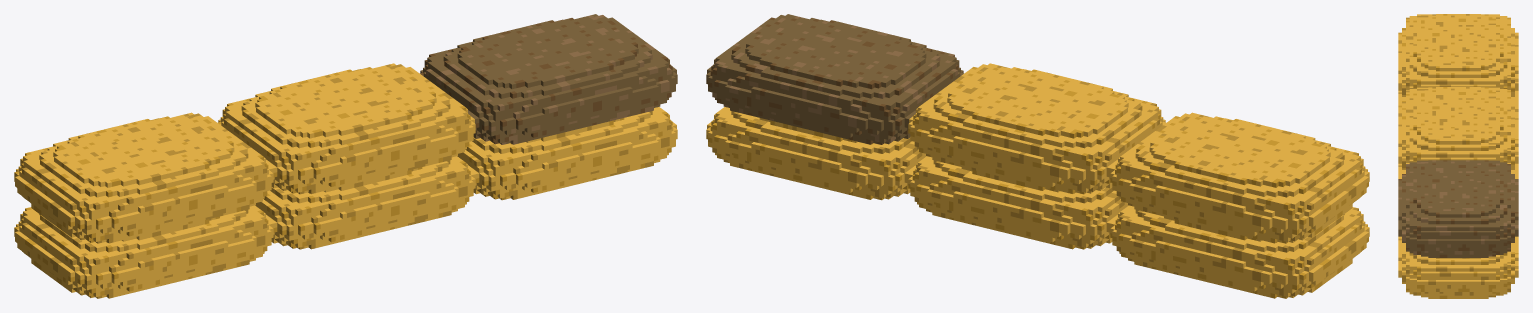
File: sandboxes-4.obj
The picture shows the model from 3 angles, left to right: view 1: azimuth 30°, elevation 25°; view 2: azimuth 150°, elevation 25°; view 3: azimuth 270°, elevation 25°; orthographic projection. The views are drawn at different scales.
Bounding box in the file's own units: 13.8 × 2.4 × 3.2.
1 material, 1 textured.
